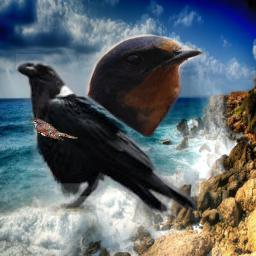Crow: (16, 54, 199, 220)
Cuckoo: (28, 117, 80, 142)
Swallow: (85, 33, 207, 138)
